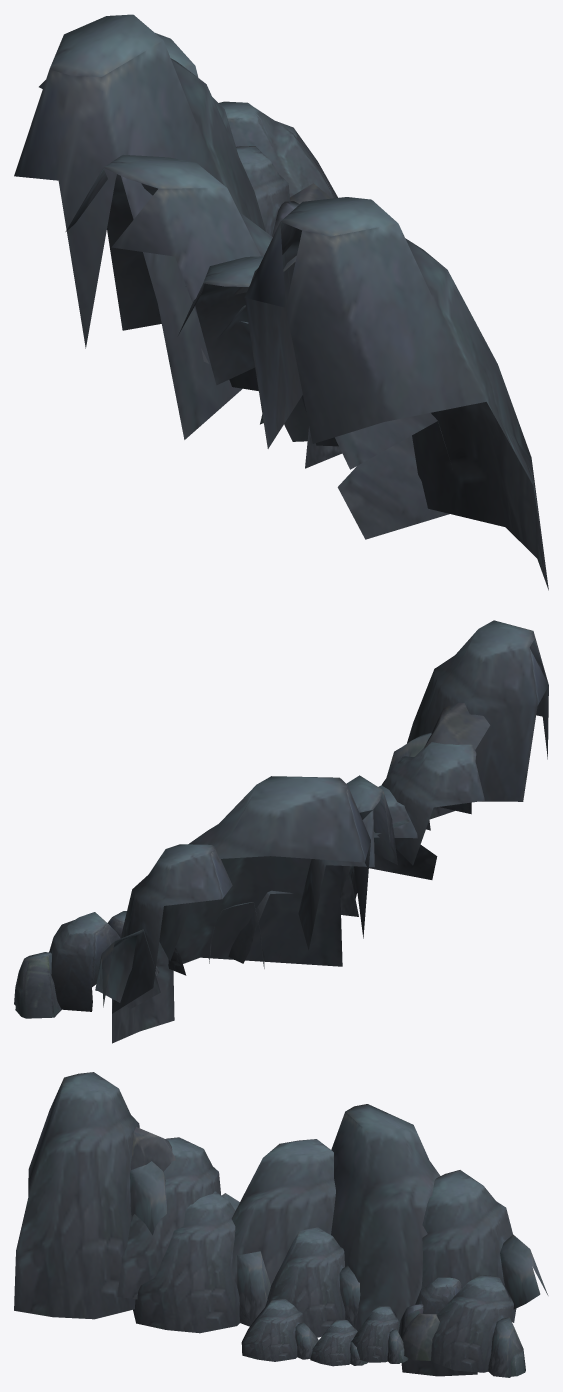
File: Area_13_20.fbx
3 views of the same model, one above another, from view 1: azimuth 30°, elevation 25°; view 2: azimuth 150°, elevation 25°; view 3: azimuth 270°, elevation 25° (orthographic). The views are drawn at different scales.
Visible parts, largest first — view 1: Area_13_20; view 2: Area_13_20; view 3: Area_13_20.
Part boxes in pixels (x1,y1,x2,y2): Area_13_20: [14, 14, 548, 590]; Area_13_20: [14, 620, 548, 1043]; Area_13_20: [14, 1072, 548, 1377].
Bounding box in the file's own units: 4866 × 4714 × 9656.
